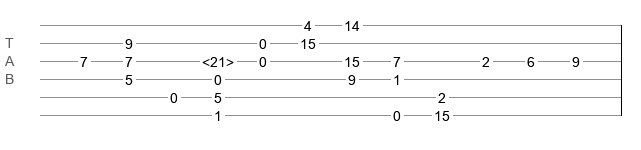0: (170, 90, 178, 100), (214, 72, 222, 82), (259, 36, 267, 46), (259, 54, 267, 64), (393, 108, 401, 118)
1: (214, 108, 222, 118), (393, 72, 401, 82)
14: (344, 18, 360, 28)
15: (300, 36, 316, 46), (344, 54, 360, 64), (434, 108, 450, 118)
2: (438, 90, 446, 100), (482, 54, 490, 64)
4: (304, 18, 312, 28)
5: (125, 72, 133, 82), (214, 90, 222, 100)
6: (527, 54, 535, 64)
7: (80, 54, 88, 64), (125, 54, 133, 64), (393, 54, 401, 64)
9: (125, 36, 133, 46), (348, 72, 356, 82), (572, 54, 580, 64)
harmonic: (202, 54, 234, 64)
